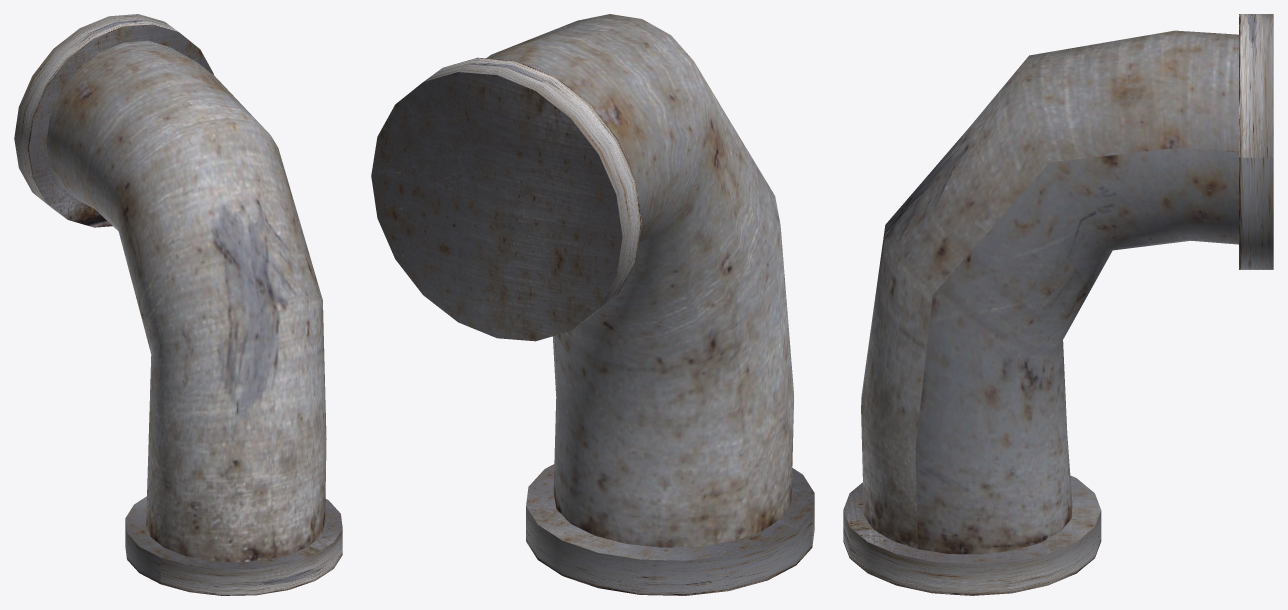
The model's file is corner_pipe.fbx.
3 views of the same model, side by side, from view 1: azimuth 30°, elevation 25°; view 2: azimuth 150°, elevation 25°; view 3: azimuth 270°, elevation 25° (orthographic). The views are drawn at different scales.
Visible parts, largest first — view 1: Curved_pipe; view 2: Curved_pipe; view 3: Curved_pipe.
Boxes of the visible parts, x1,y1,x2,y2 form: Curved_pipe: (14,14,342,595); Curved_pipe: (371,14,814,595); Curved_pipe: (843,14,1273,595).
Size of the model in its own units: 0.848 by 1.85 by 1.39.
Materials: 1 (1 with a texture image).
